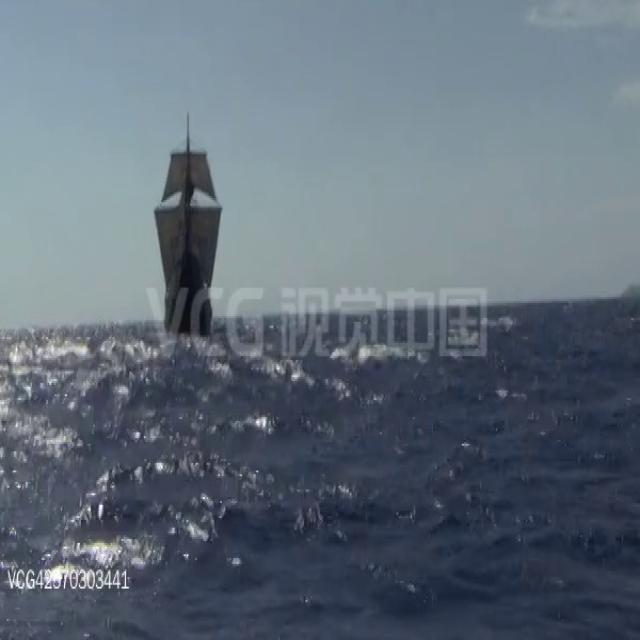sailboat: (155, 114, 225, 336)
